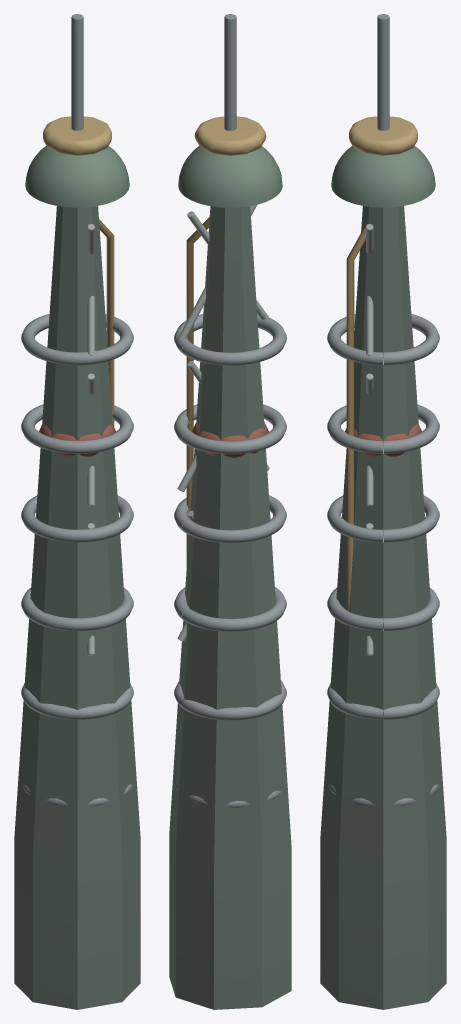
The picture shows the model from 3 angles, left to right: view 1: azimuth 90°, elevation 25°; view 2: azimuth 210°, elevation 25°; view 3: azimuth 270°, elevation 25°; orthographic projection.
Visible parts, largest first — view 1: Tapered spire, Sensor pickup cap, Sensor mast collar.007, Sensor mast collar.006, Sensor top receiver, Sensor mast collar.005, Sensor mast collar.004, Sensor mast collar.003, Aerial stem, Sensor waveguide, Spire collar, Sensor lattice diagonal.008 (+1 smaller); view 2: Tapered spire, Sensor pickup cap, Sensor mast collar.007, Sensor mast collar.006, Sensor top receiver, Sensor mast collar.005, Sensor mast collar.004, Sensor waveguide, Sensor mast collar.003, Aerial stem, Spire collar, Sensor lattice diagonal.009 (+2 smaller); view 3: Tapered spire, Sensor pickup cap, Sensor waveguide, Sensor mast collar.007, Sensor mast collar.006, Sensor top receiver, Sensor mast collar.005, Sensor mast collar.004, Sensor mast collar.003, Aerial stem, Spire collar, Sensor lattice diagonal.009 (+1 smaller).
Boxes of the visible parts, box(x1,y1,x2,y2) form: Tapered spire: box(14, 206, 140, 1009); Sensor pickup cap: box(25, 146, 129, 207); Sensor mast collar.007: box(21, 314, 133, 365); Sensor mast collar.006: box(21, 404, 133, 453); Sensor top receiver: box(43, 116, 111, 155); Sensor mast collar.005: box(21, 495, 133, 542); Sensor mast collar.004: box(21, 587, 133, 631); Sensor mast collar.003: box(21, 683, 133, 719); Aerial stem: box(71, 14, 83, 130); Sensor waveguide: box(99, 219, 114, 426); Spire collar: box(39, 424, 115, 456); Sensor lattice diagonal.008: box(87, 295, 94, 355); Tapered spire: box(169, 206, 291, 1009); Sensor pickup cap: box(178, 146, 282, 207); Sensor mast collar.007: box(174, 314, 286, 365); Sensor mast collar.006: box(174, 404, 286, 454); Sensor top receiver: box(194, 116, 266, 155); Sensor mast collar.005: box(174, 495, 286, 542); Sensor mast collar.004: box(174, 587, 286, 631); Sensor waveguide: box(186, 217, 209, 565); Sensor mast collar.003: box(174, 680, 286, 720); Aerial stem: box(224, 14, 236, 130); Spire collar: box(192, 421, 268, 457); Sensor lattice diagonal.009: box(177, 205, 256, 339); Tapered spire: box(320, 206, 446, 1009); Sensor pickup cap: box(331, 146, 435, 207); Sensor waveguide: box(346, 223, 367, 627); Sensor mast collar.007: box(327, 314, 439, 365); Sensor mast collar.006: box(327, 404, 439, 453); Sensor top receiver: box(349, 116, 417, 155); Sensor mast collar.005: box(327, 495, 439, 542); Sensor mast collar.004: box(327, 587, 439, 631); Sensor mast collar.003: box(327, 683, 439, 719); Aerial stem: box(377, 14, 389, 130); Spire collar: box(345, 424, 421, 456); Sensor lattice diagonal.009: box(366, 295, 373, 355).
Size of the model in its own units: 0.46 by 3.88 by 0.46.
